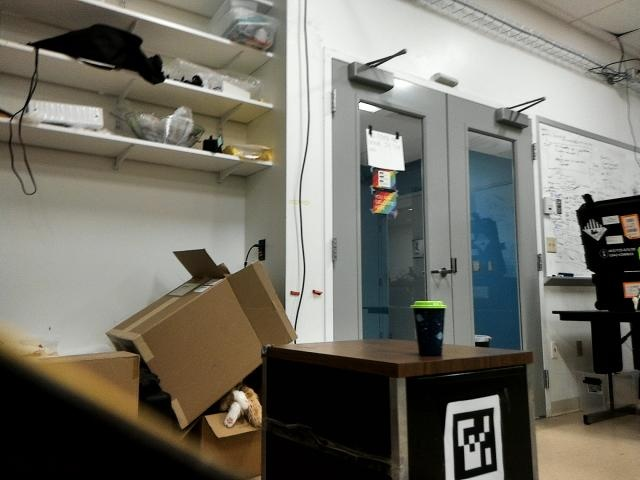useless_cup: (408, 299, 445, 353)
